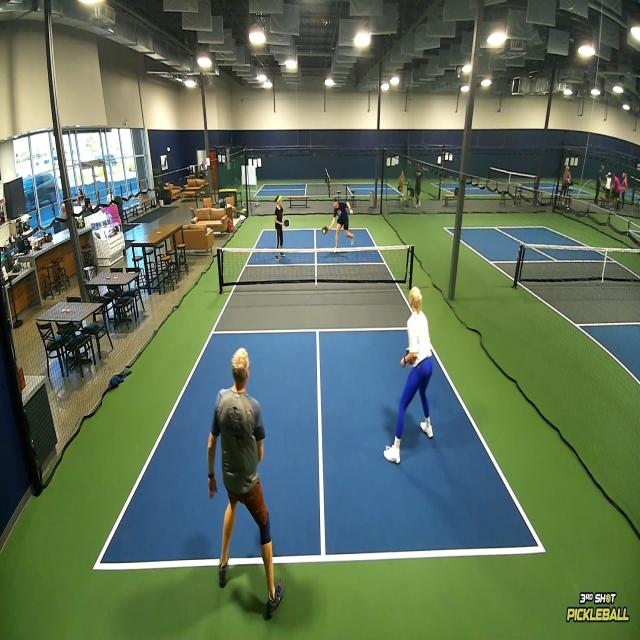Pickleball: (323, 229, 325, 234)
